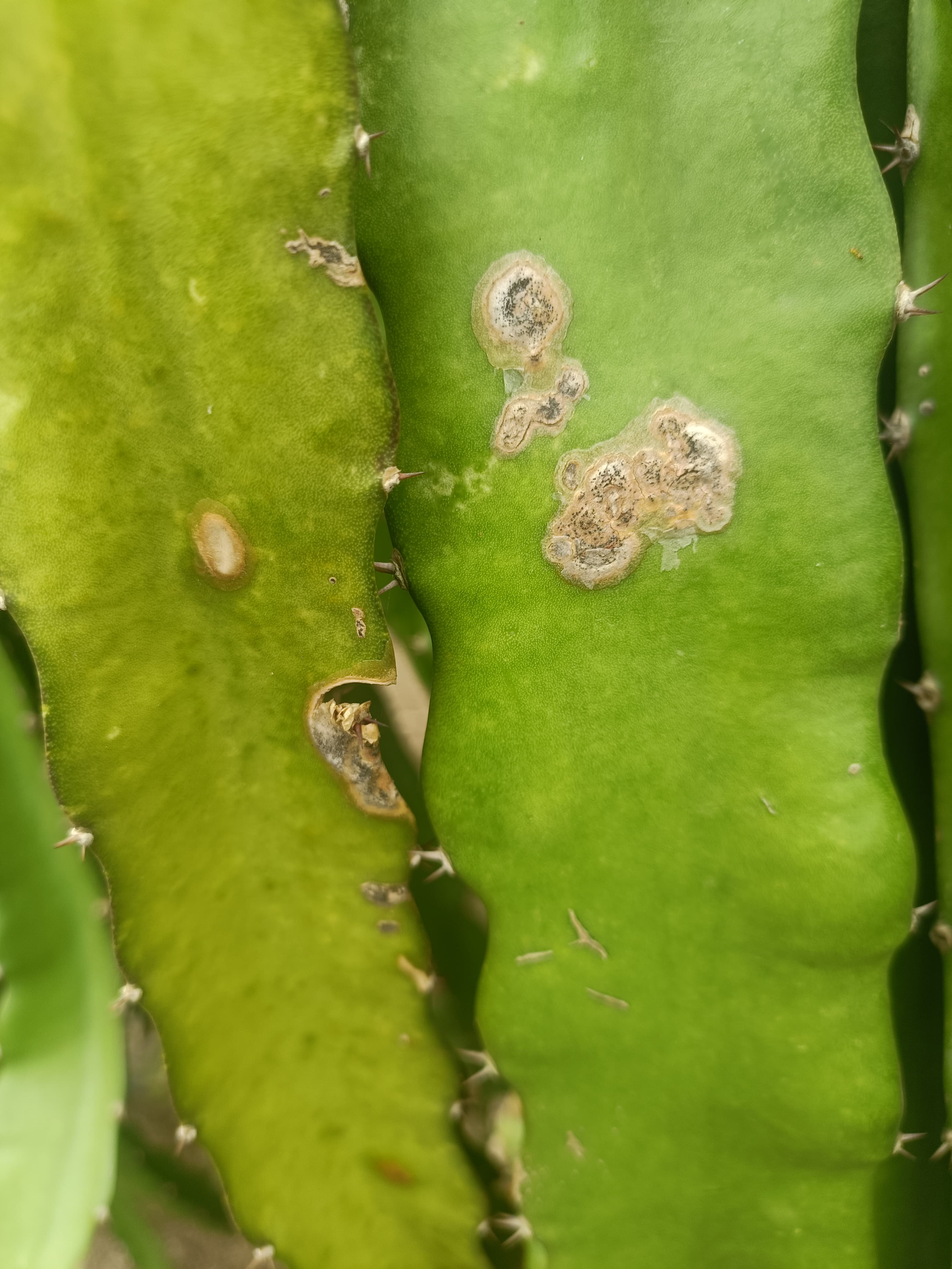stemcanker: (534, 391, 743, 589), (463, 247, 593, 458), (298, 660, 423, 827), (280, 221, 370, 290), (189, 498, 249, 591)
